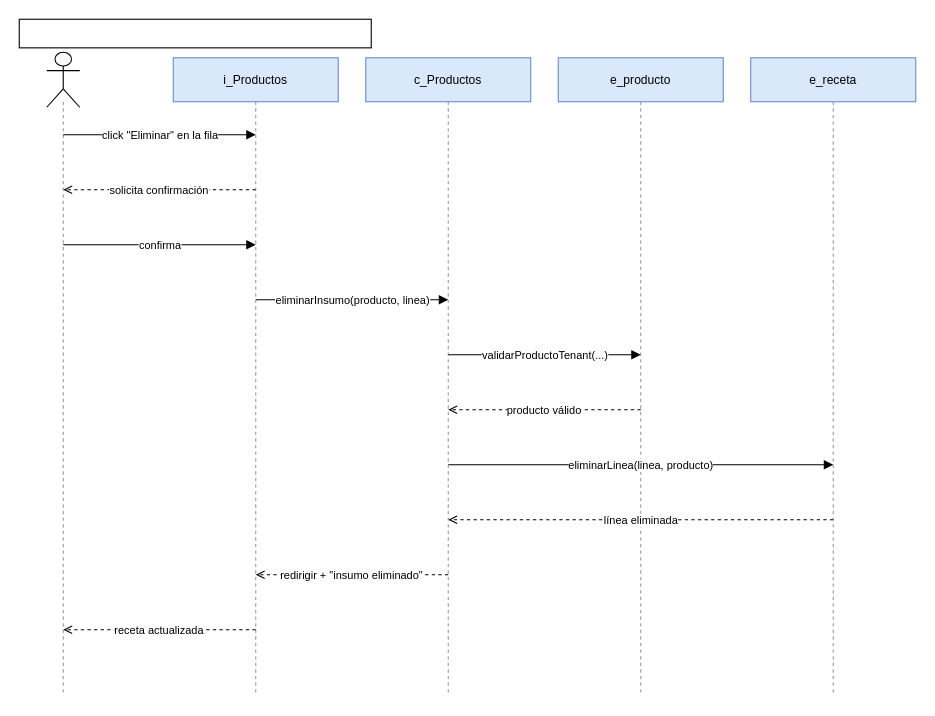
The diagram is 935 pixels wide and 716 high, and some of its shapes have lost their labels. Each missing label, with the centre of its shape:
Administrador: point (63, 79)
Secuencia - Eliminar Insumo de Receta (CU-11): point (194, 33)
